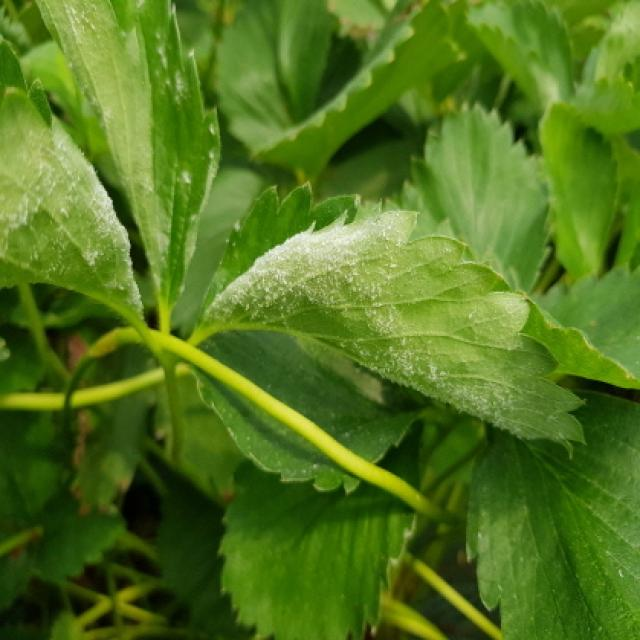Powdery Mildew Leaf: (189, 180, 588, 463), (27, 0, 221, 313), (2, 38, 151, 334), (181, 329, 430, 496)
